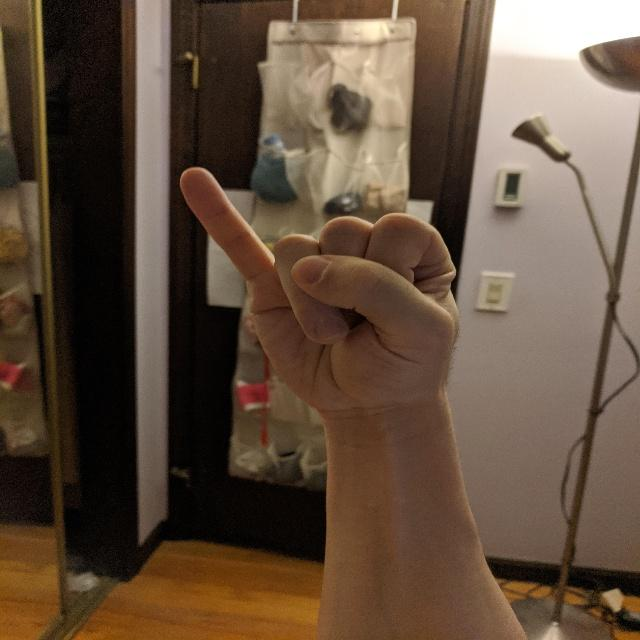I: (172, 160, 470, 418)
